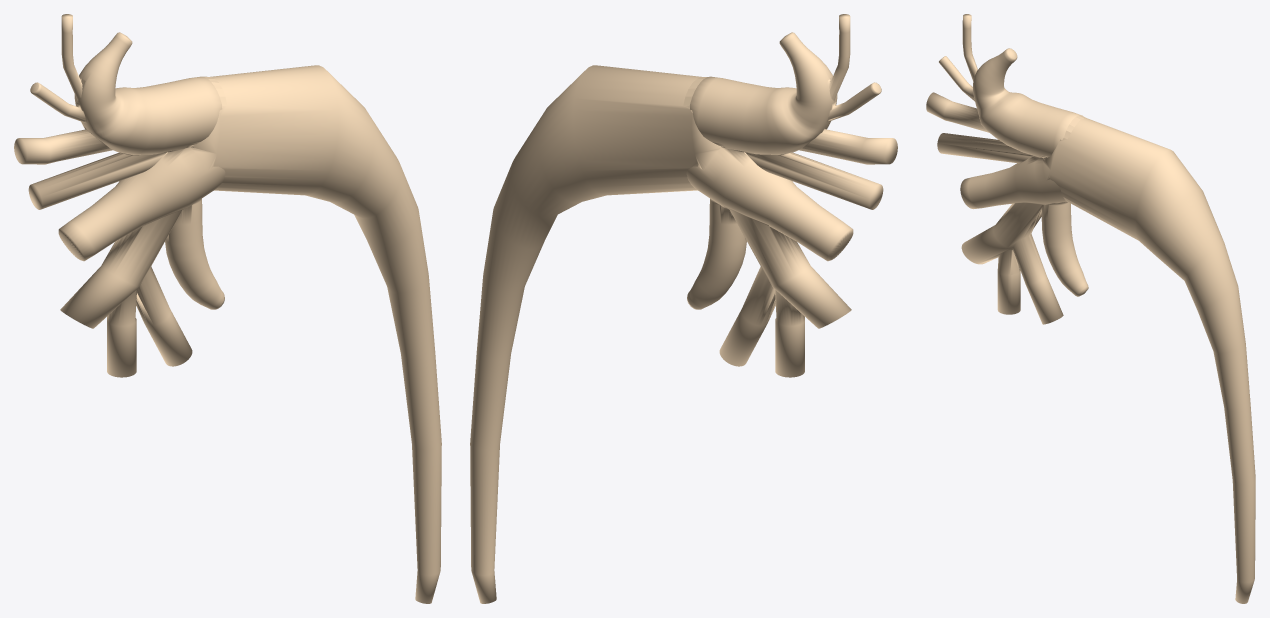
File: kidney pelvis & calyx.fbx
3 views of the same model, side by side, from view 1: azimuth 30°, elevation 25°; view 2: azimuth 150°, elevation 25°; view 3: azimuth 330°, elevation 25° (orthographic). The views are drawn at different scales.
Parts seen in each view (by area): view 1: Renal Pelvis; view 2: Renal Pelvis; view 3: Renal Pelvis.
Part boxes in pixels (x1,y1,x2,y2): Renal Pelvis: (14,14,441,603); Renal Pelvis: (470,14,897,603); Renal Pelvis: (926,14,1255,603).
Size of the model in its own units: 223 by 341 by 48.21.
